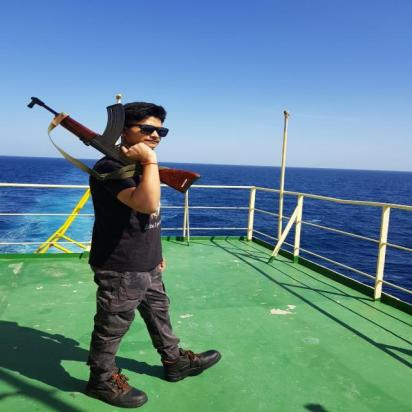Gun: (25, 95, 204, 196)
